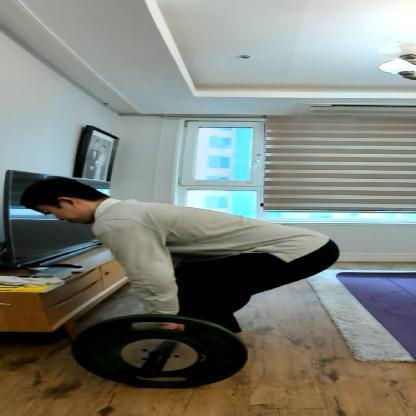barbell: (65, 312, 249, 390)
